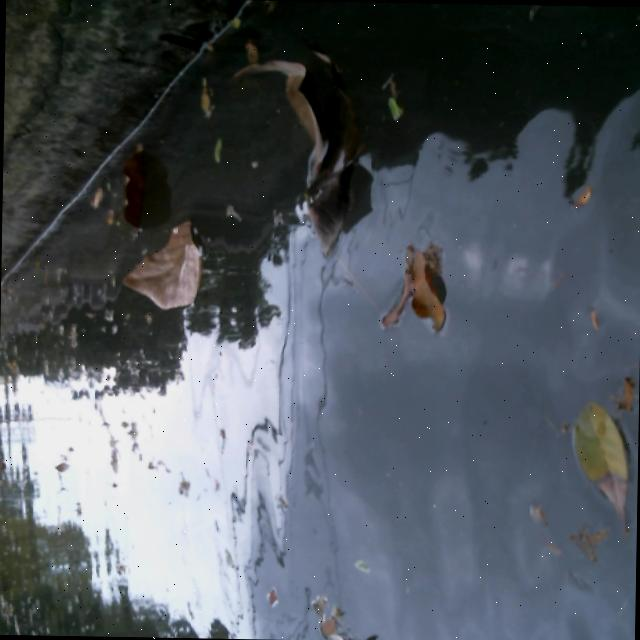Big-leaf: (236, 39, 375, 259), (369, 229, 471, 356), (104, 215, 201, 328), (108, 138, 153, 216)
Small-leaf: (567, 404, 634, 532), (561, 160, 615, 207), (576, 294, 622, 341), (196, 50, 223, 115), (383, 73, 409, 130), (205, 128, 244, 162), (607, 368, 639, 407), (90, 164, 119, 204), (308, 614, 352, 640), (218, 192, 247, 227), (251, 583, 287, 604), (227, 8, 256, 32)
